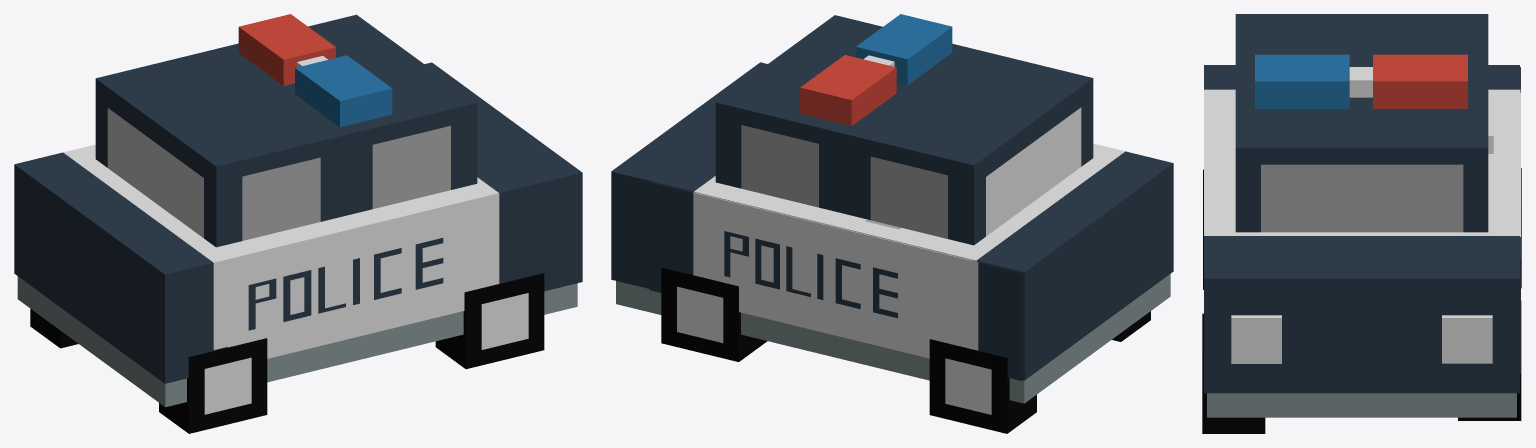
File: policecar.fbx
3 views of the same model, side by side, from view 1: azimuth 30°, elevation 25°; view 2: azimuth 150°, elevation 25°; view 3: azimuth 270°, elevation 25° (orthographic). The views are drawn at different scales.
Visible parts, largest first — view 1: policecar2; view 2: policecar2; view 3: policecar2.
Part boxes in pixels (box(x1,y1,x2,y2)): policecar2: box(14, 14, 582, 433); policecar2: box(611, 14, 1173, 433); policecar2: box(1202, 14, 1521, 433).
Size of the model in its own units: 8.11 by 5.02 by 5.05.
